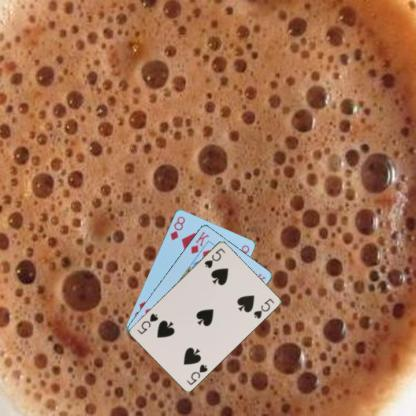5s: (201, 245, 226, 269), (184, 362, 209, 386)
8d: (168, 213, 186, 242)
Kd: (188, 228, 210, 255)
